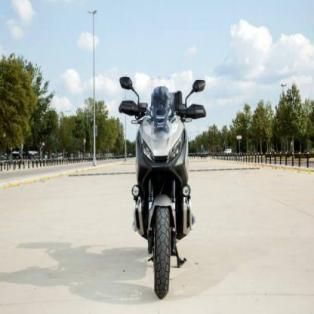Motocicleta: (118, 68, 208, 300)
